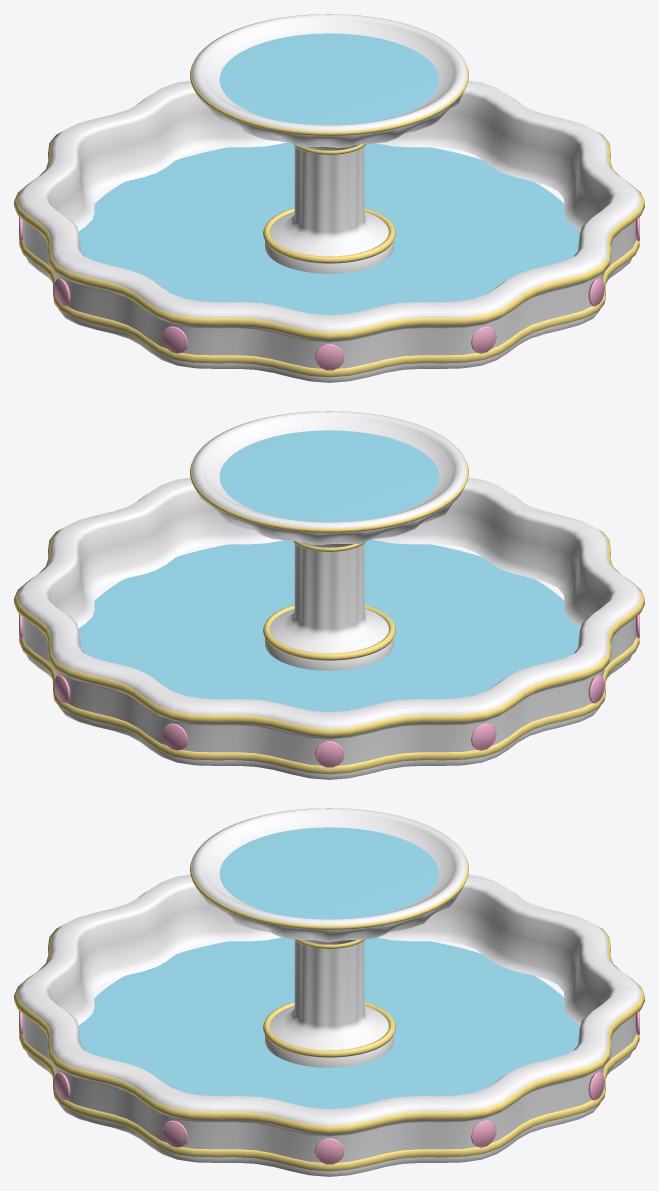
Rendered from LobbyFountain.glb.
3 views of the same model, one above another, from view 1: azimuth 30°, elevation 25°; view 2: azimuth 150°, elevation 25°; view 3: azimuth 270°, elevation 25° (orthographic).
Parts seen in each view (by area): view 1: Stone, Pool, Trim, Accent; view 2: Stone, Pool, Trim, Accent; view 3: Stone, Pool, Trim, Accent.
Boxes of the visible parts, box(x1,y1,x2,y2) form: Stone: box(17, 14, 641, 382); Pool: box(78, 33, 580, 315); Trim: box(14, 53, 644, 377); Accent: box(19, 217, 639, 370); Stone: box(17, 411, 641, 779); Pool: box(78, 430, 580, 712); Trim: box(14, 450, 644, 774); Accent: box(19, 614, 639, 767); Stone: box(17, 808, 641, 1176); Pool: box(78, 827, 580, 1109); Trim: box(14, 848, 644, 1171); Accent: box(19, 1011, 639, 1164).
Size of the model in its own units: 26.4 by 8.5 by 26.4.
